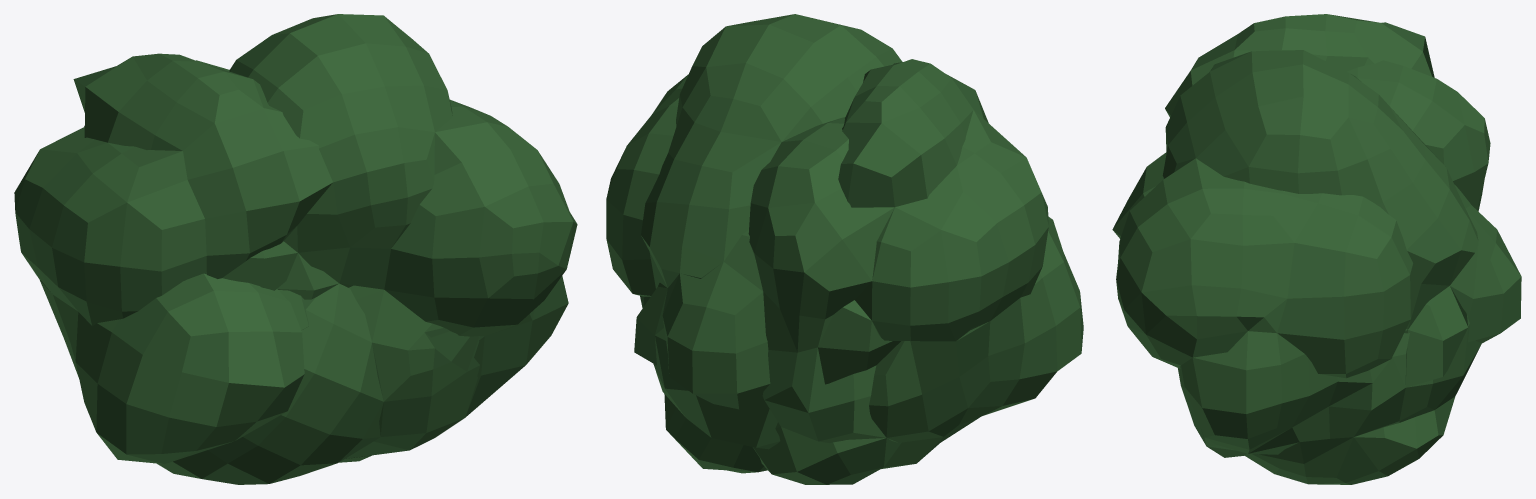
File: Low_Poly_Bush.fbx
3 views of the same model, side by side, from view 1: azimuth 30°, elevation 25°; view 2: azimuth 150°, elevation 25°; view 3: azimuth 270°, elevation 25° (orthographic). The views are drawn at different scales.
Parts seen in each view (by area): view 1: Low Poly Bush; view 2: Low Poly Bush; view 3: Low Poly Bush.
Part boxes in pixels (left/top/right/bottom): Low Poly Bush: left=14, top=14, right=577, bottom=484; Low Poly Bush: left=606, top=14, right=1083, bottom=484; Low Poly Bush: left=1112, top=14, right=1521, bottom=484.
Size of the model in its own units: 183 by 167 by 150.
